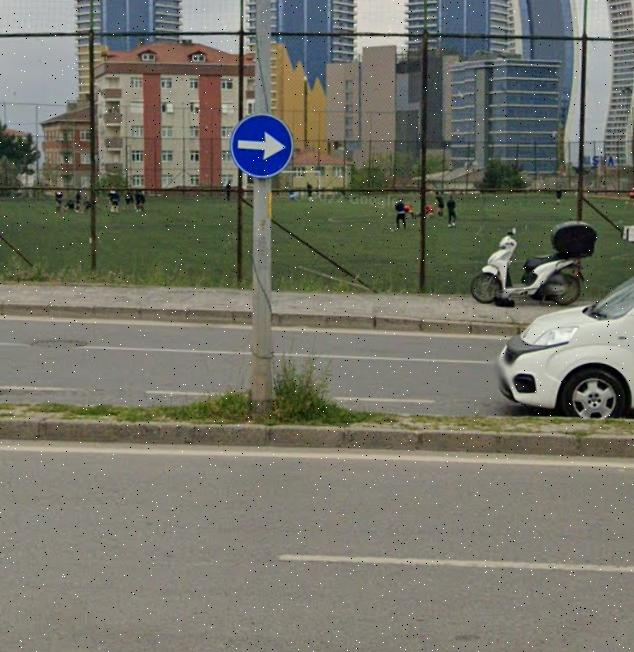turnleft: (232, 112, 295, 175)
